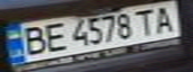4: (66, 17, 90, 48)
5: (84, 16, 106, 46)
7: (100, 14, 121, 43)
8: (115, 10, 136, 39)
A: (148, 3, 181, 34)
B: (15, 24, 51, 56)
E: (39, 20, 69, 53)
T: (130, 7, 160, 37)
